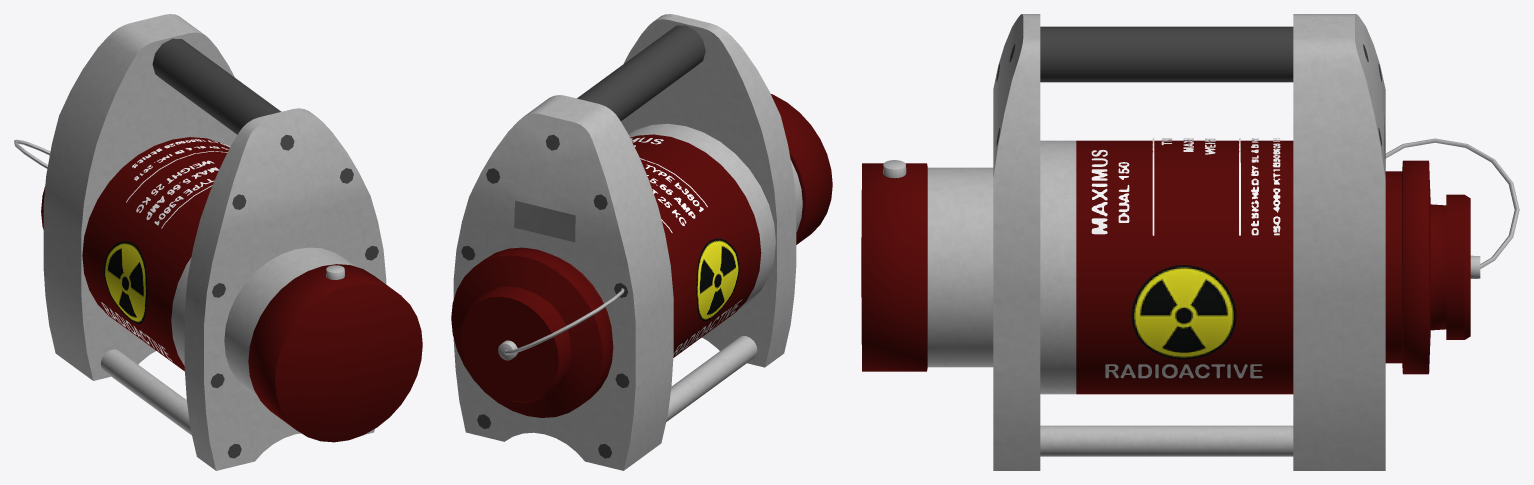
Rendered from GammaProjector.fbx.
3 renders of one model, left to right at view 1: azimuth 30°, elevation 25°; view 2: azimuth 150°, elevation 25°; view 3: azimuth 270°, elevation 25°, orthographic. The views are drawn at different scales.
Parts seen in each view (by area): view 1: propGammaProjector; view 2: propGammaProjector; view 3: propGammaProjector.
Part boxes in pixels (x1,y1,x2,y2): propGammaProjector: [14, 14, 422, 470]; propGammaProjector: [451, 14, 832, 470]; propGammaProjector: [861, 14, 1519, 470].
Size of the model in its own units: 25.87 by 43.73 by 65.84.
Materials: 5 (2 with a texture image).
